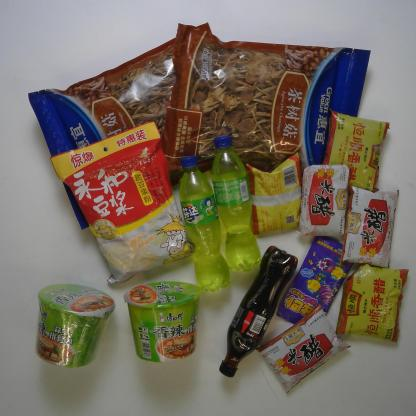Candy: (277, 227, 348, 330)
Dried Food: (27, 19, 246, 229), (164, 22, 375, 178)
Drink: (221, 242, 296, 379), (207, 130, 268, 276), (168, 153, 231, 294)
Instant Drink: (52, 119, 195, 284)
Instant Noodles: (28, 278, 117, 380), (121, 279, 207, 370)
Seasoner: (255, 306, 343, 393), (321, 108, 391, 198), (338, 258, 406, 348), (338, 184, 401, 269), (247, 152, 306, 238), (296, 160, 354, 238)
